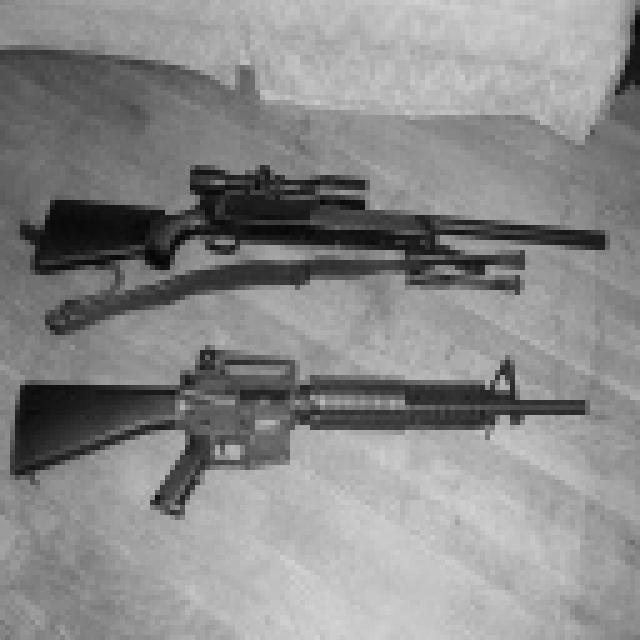Rifle: (0, 292, 629, 533), (0, 143, 630, 352)
